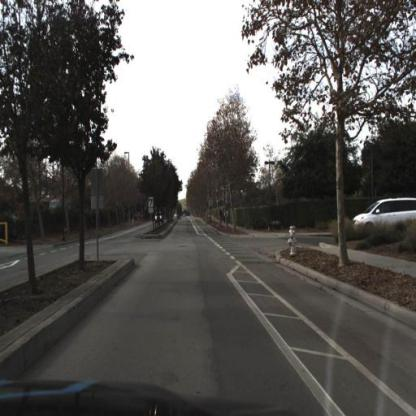car: (352, 196, 416, 233), (154, 210, 165, 225)
pedestrian: (219, 209, 224, 229), (225, 209, 230, 225)
